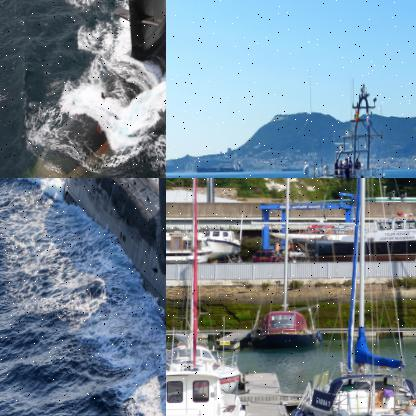Merchant Ship: (195, 161, 244, 172), (281, 165, 303, 170)
Patrol Boat: (253, 79, 415, 177), (290, 210, 415, 256)
Sails Boat: (282, 178, 415, 415), (166, 178, 249, 415)
Submarine: (11, 0, 165, 177), (57, 178, 165, 415)
